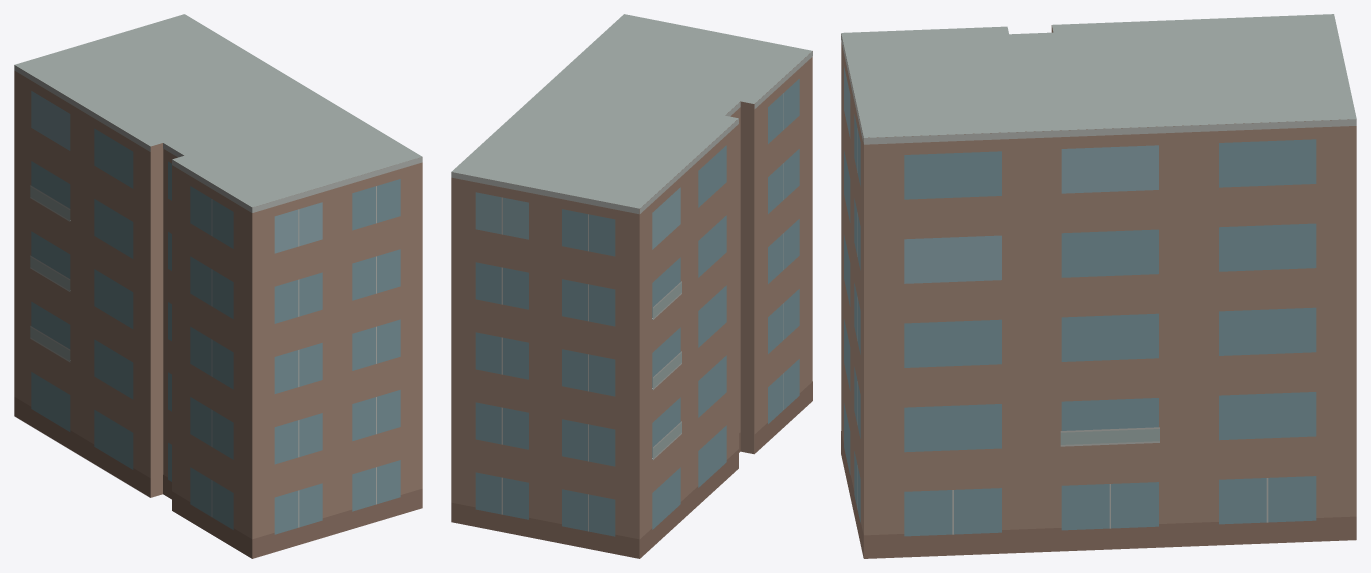
File: survey-upis-32608249.glb
The picture shows the model from 3 angles, left to right: view 1: azimuth 30°, elevation 25°; view 2: azimuth 150°, elevation 25°; view 3: azimuth 270°, elevation 25°; orthographic projection. The views are drawn at different scales.
Visible parts, largest first — view 1: survey-upis-32608249.tmp; view 2: survey-upis-32608249.tmp; view 3: survey-upis-32608249.tmp.
Part boxes in pixels (box(x1,y1,x2,y2)): survey-upis-32608249.tmp: box(14, 14, 422, 558); survey-upis-32608249.tmp: box(451, 14, 812, 558); survey-upis-32608249.tmp: box(841, 14, 1356, 558).
Bounding box in the file's own units: 9.61 × 15.2 × 16.89.
